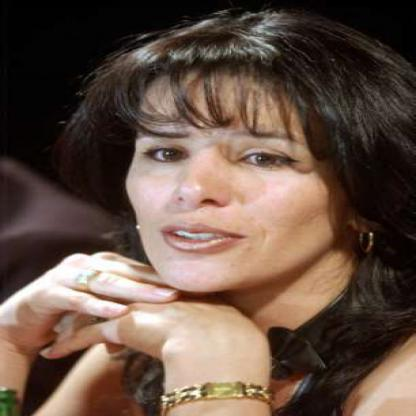face: (106, 30, 368, 302)
